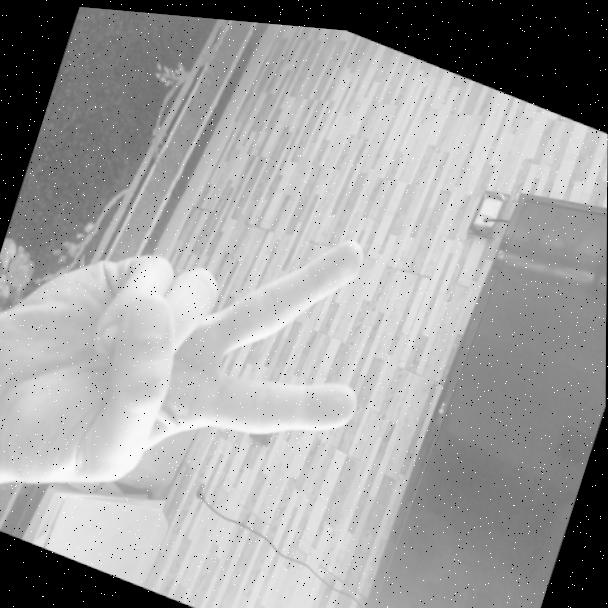two: (0, 120, 409, 570)
